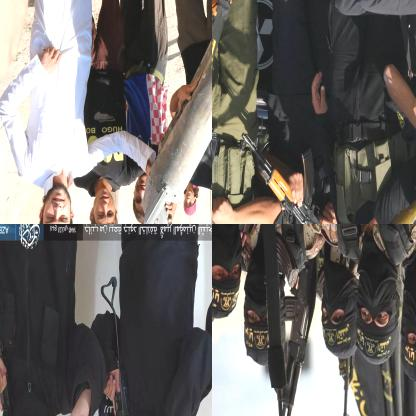rifle: (242, 128, 347, 223), (273, 267, 319, 415), (212, 57, 250, 223), (98, 277, 141, 415), (0, 246, 34, 415), (263, 224, 289, 415), (377, 109, 415, 223), (212, 0, 247, 52), (341, 355, 356, 415)
